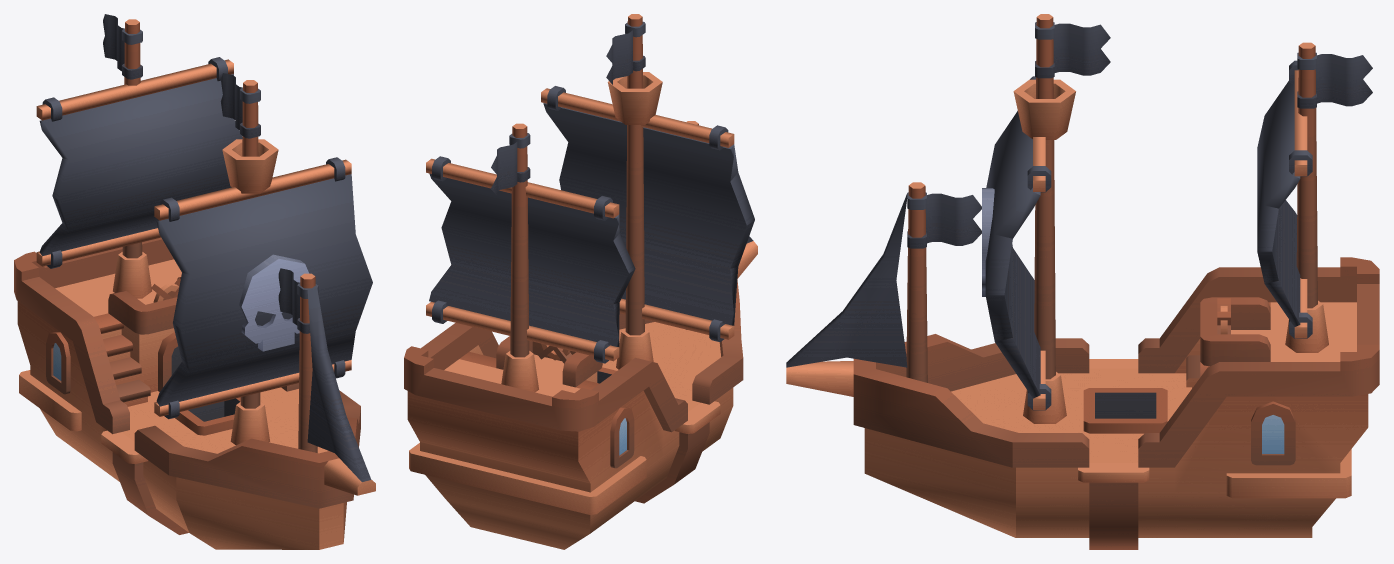
The model's file is ship-pirate-medium.glb.
3 renders of one model, left to right at view 1: azimuth 30°, elevation 25°; view 2: azimuth 150°, elevation 25°; view 3: azimuth 270°, elevation 25°, orthographic. The views are drawn at different scales.
Parts seen in each view (by area): view 1: ship-pirate-medium, sail-a, sail-b, flag-b, flag-c, flag-a; view 2: ship-pirate-medium, sail-a, sail-b, flag-c, flag-b; view 3: ship-pirate-medium, sail-a, sail-b, flag-b, flag-c, flag-a.
Boxes of the visible parts, x1,y1,x2,y2 form: ship-pirate-medium: (14,19,375,549); sail-a: (154,157,372,419); sail-b: (36,57,242,268); flag-b: (220,73,260,138); flag-c: (103,14,142,79); flag-a: (278,268,318,333); ship-pirate-medium: (404,14,757,549); sail-a: (541,86,754,341); sail-b: (426,156,635,363); flag-c: (491,133,530,196); flag-b: (606,21,645,84); ship-pirate-medium: (786,14,1379,549); sail-a: (982,76,1051,410); sail-b: (1257,60,1312,338); flag-b: (1035,22,1110,78); flag-c: (1297,52,1372,108); flag-a: (907,192,981,248).
Size of the model in its own units: 4.8 by 9.96 by 10.6.
1 material, 1 textured.
